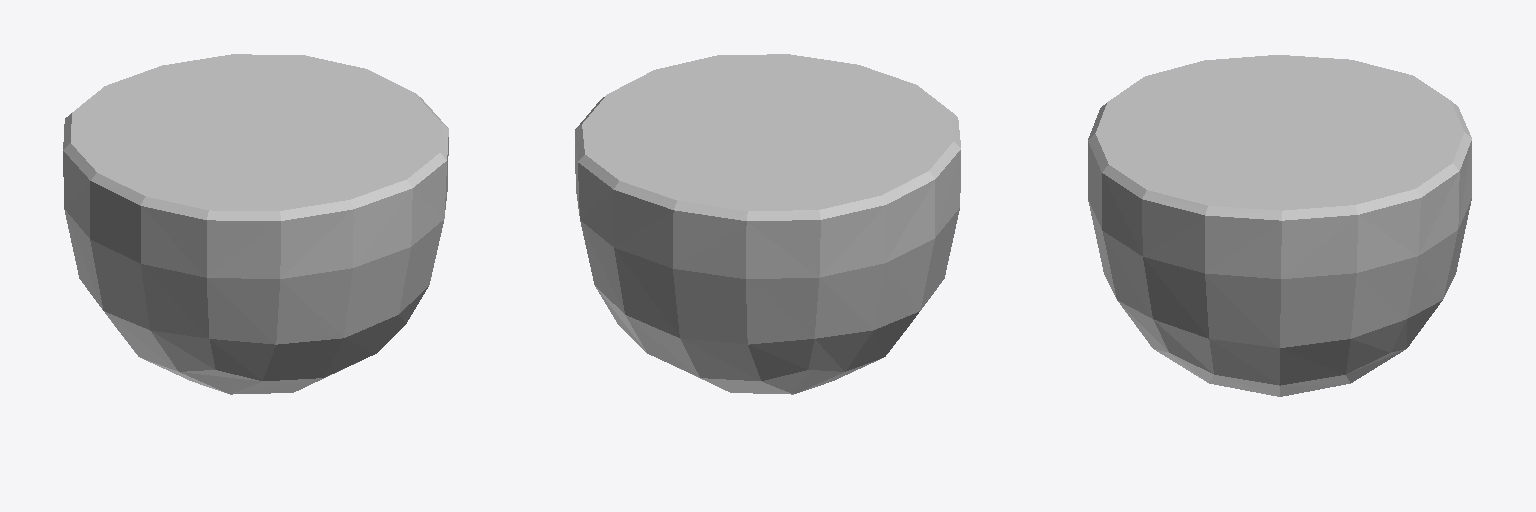
File: HeadBot.obj
3 views of the same model, side by side, from view 1: azimuth 30°, elevation 25°; view 2: azimuth 150°, elevation 25°; view 3: azimuth 270°, elevation 25° (orthographic).
Parts seen in each view (by area): view 1: HeadBot; view 2: HeadBot; view 3: HeadBot.
Boxes of the visible parts, <box> form: HeadBot: <box>63,54,448,394</box>; HeadBot: <box>575,54,960,394</box>; HeadBot: <box>1088,55,1471,396</box>.
Size of the model in its own units: 0.5081 by 0.3597 by 0.5081.